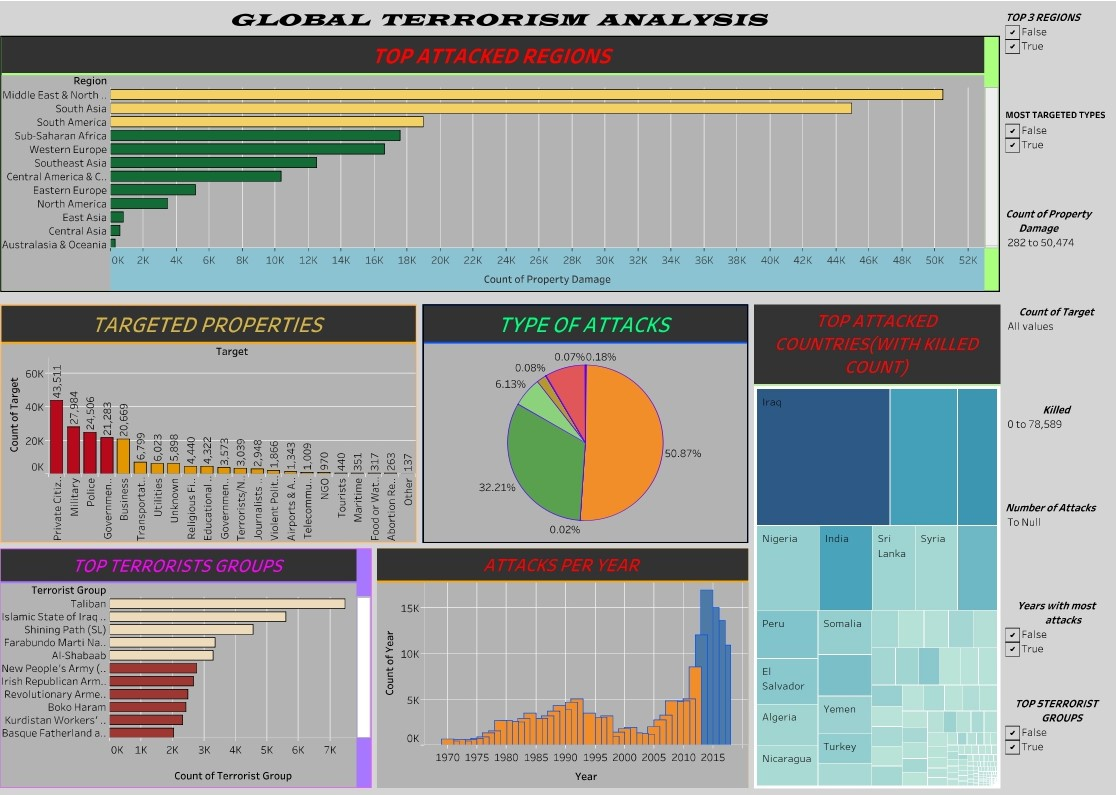

The dashboard page shown, as its layout file describes it:
{"tool":"tableau","page":{"name":"Dashboard 1","canvas":[1654,1169],"ordinal":0},"visuals":[{"type":"title","box":[8,8,1478,39]},{"type":"filter","title":"REGIONN WISE ATTACKS","param":"[federated.1v28yvw0dwglkq13423gz10i7x6a].[usr:Calculation_5787125573735890946:nk","box":[1486,8,160,145]},{"type":"worksheet","title":"REGIONN WISE ATTACKS","mark":"Bar","rows":["Region"],"cols":["Property_Damage"],"box":[8,47,1478,385]},{"type":"filter","title":"TYPES OF TARGET","param":"[federated.1v28yvw0dwglkq13423gz10i7x6a].[usr:Calculation_5787125573739630596:nk","box":[1486,153,160,144]},{"type":"filter","title":"REGIONN WISE ATTACKS","param":"[federated.1v28yvw0dwglkq13423gz10i7x6a].[cnt:Property_Damage:qk]","box":[1486,297,160,144]},{"type":"blank","box":[8,432,1478,10]},{"type":"filter","title":"TYPES OF TARGET","param":"[federated.1v28yvw0dwglkq13423gz10i7x6a].[cnt:Target:qk]","box":[1486,441,160,144]},{"type":"worksheet","title":"TYPES OF TARGET","mark":"Bar","rows":["Target"],"cols":["Target"],"box":[8,442,621.3,359]},{"type":"worksheet","title":"TYPES OF ATTACK","mark":"Pie","box":[629.3,442,487.2,359]},{"type":"worksheet","title":"ATTACKED COUNTRIES","mark":"Automatic","box":[1116.5,442,369.5,719]},{"type":"filter","title":"ATTACKED COUNTRIES","param":"[federated.1v28yvw0dwglkq13423gz10i7x6a].[sum:Killed:qk]","box":[1486,585,160,144]},{"type":"filter","title":"ATTACKED COUNTRIES","param":"[federated.1v28yvw0dwglkq13423gz10i7x6a].[sum:Number of Attacks:qk]","box":[1486,729,160,144]},{"type":"worksheet","title":"DIFFERENT TERRORISTS GROUPS","mark":"Bar","rows":["Terrorist_Group"],"cols":["Terrorist_Group"],"box":[8,801,554.2,360]},{"type":"worksheet","title":"ATTACK PER YEAR","mark":"Bar","rows":["Year"],"cols":["Year"],"box":[562.2,801,554.3,360]},{"type":"filter","title":"ATTACK PER YEAR","param":"[federated.1v28yvw0dwglkq13423gz10i7x6a].[usr:Calculation_5787125573734932480:nk","box":[1486,873,160,144]},{"type":"filter","title":"DIFFERENT TERRORISTS GROUPS","param":"[federated.1v28yvw0dwglkq13423gz10i7x6a].[usr:Calculation_5787125573743124485:nk","box":[1486,1017,160,144]}]}

Visuals, with their boxes in screenshot pixels (x1, y1, x2, y2), scaled from the page's 1654x1169 canvas onto the 1116x795 screenshot:
title: select_region(5, 5, 1003, 32)
"REGIONN WISE ATTACKS" filter: select_region(1003, 5, 1111, 104)
"REGIONN WISE ATTACKS" worksheet (Bar marks): select_region(5, 32, 1003, 294)
"TYPES OF TARGET" filter: select_region(1003, 104, 1111, 202)
"REGIONN WISE ATTACKS" filter: select_region(1003, 202, 1111, 300)
blank: select_region(5, 294, 1003, 301)
"TYPES OF TARGET" filter: select_region(1003, 300, 1111, 398)
"TYPES OF TARGET" worksheet (Bar marks): select_region(5, 301, 425, 545)
"TYPES OF ATTACK" worksheet (Pie marks): select_region(425, 301, 753, 545)
"ATTACKED COUNTRIES" worksheet: select_region(753, 301, 1003, 790)
"ATTACKED COUNTRIES" filter: select_region(1003, 398, 1111, 496)
"ATTACKED COUNTRIES" filter: select_region(1003, 496, 1111, 594)
"DIFFERENT TERRORISTS GROUPS" worksheet (Bar marks): select_region(5, 545, 379, 790)
"ATTACK PER YEAR" worksheet (Bar marks): select_region(379, 545, 753, 790)
"ATTACK PER YEAR" filter: select_region(1003, 594, 1111, 692)
"DIFFERENT TERRORISTS GROUPS" filter: select_region(1003, 692, 1111, 790)
